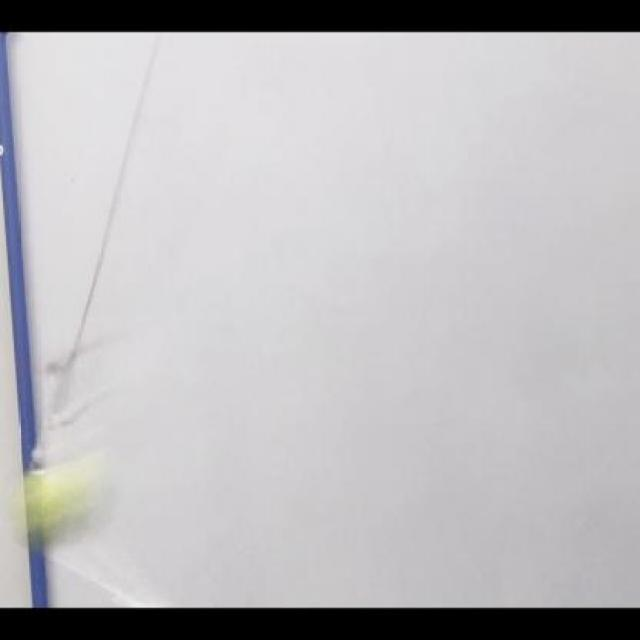baseball: (5, 498, 116, 502)
